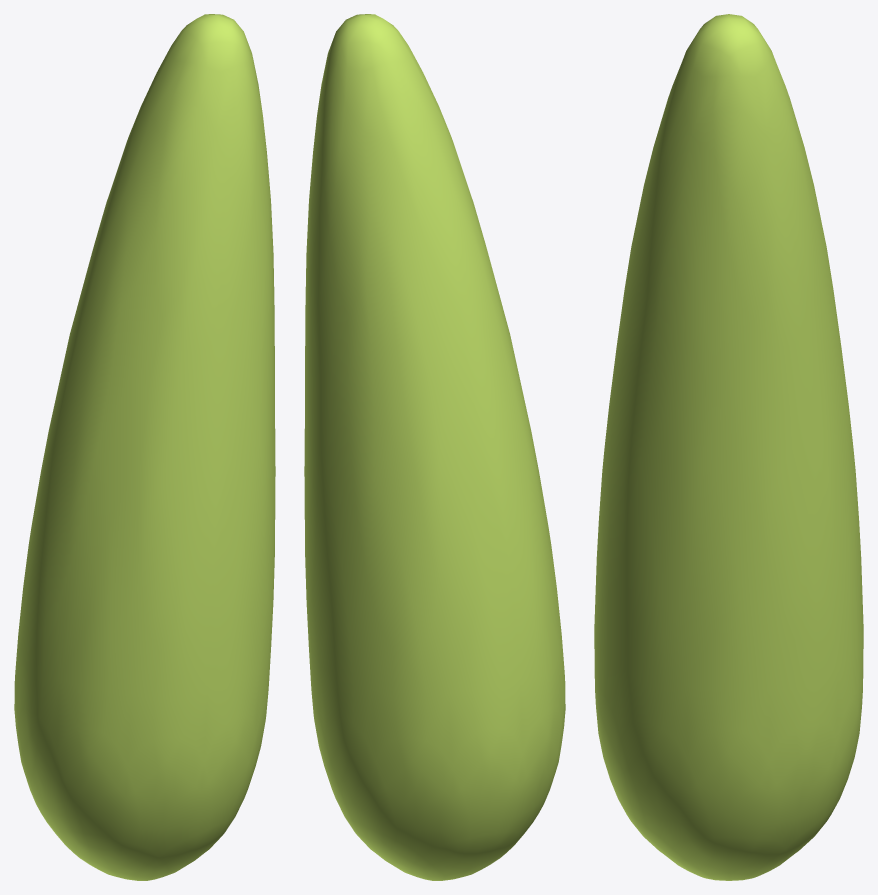
Rendered from BushTree_B.fbx.
3 renders of one model, left to right at view 1: azimuth 30°, elevation 25°; view 2: azimuth 150°, elevation 25°; view 3: azimuth 270°, elevation 25°, orthographic. The views are drawn at different scales.
Visible parts, largest first — view 1: Thuja_BushTree_m_09; view 2: Thuja_BushTree_m_09; view 3: Thuja_BushTree_m_09.
Part boxes in pixels (x1,y1,x2,y2): Thuja_BushTree_m_09: [14, 14, 275, 880]; Thuja_BushTree_m_09: [304, 14, 565, 880]; Thuja_BushTree_m_09: [594, 14, 863, 880].
Bounding box in the file's own units: 112 × 393 × 108.
